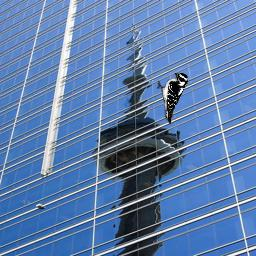Woodpecker: (157, 73, 188, 125)
